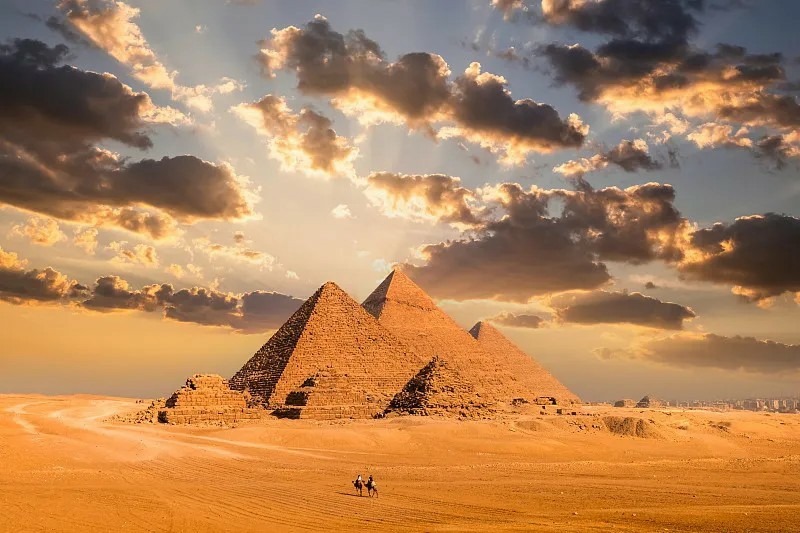Pyramid: (227, 283, 424, 415), (360, 269, 547, 407), (470, 323, 585, 404), (388, 357, 500, 418), (274, 368, 383, 422), (155, 375, 264, 425)
